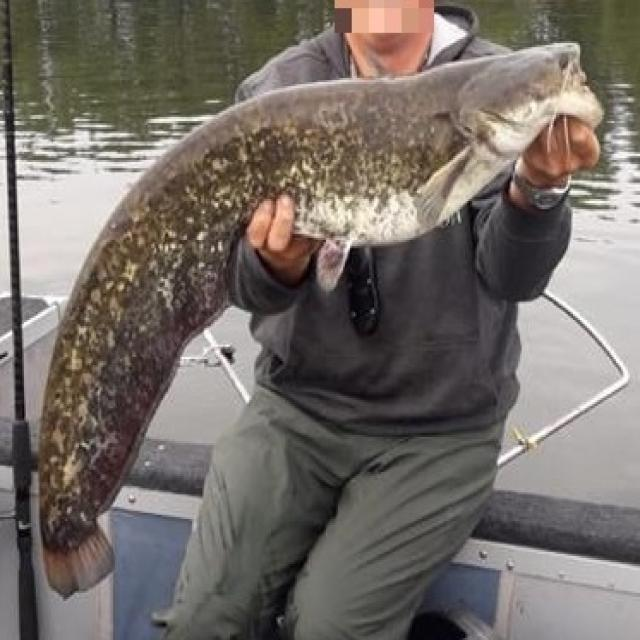Catfish: (29, 41, 604, 617)
